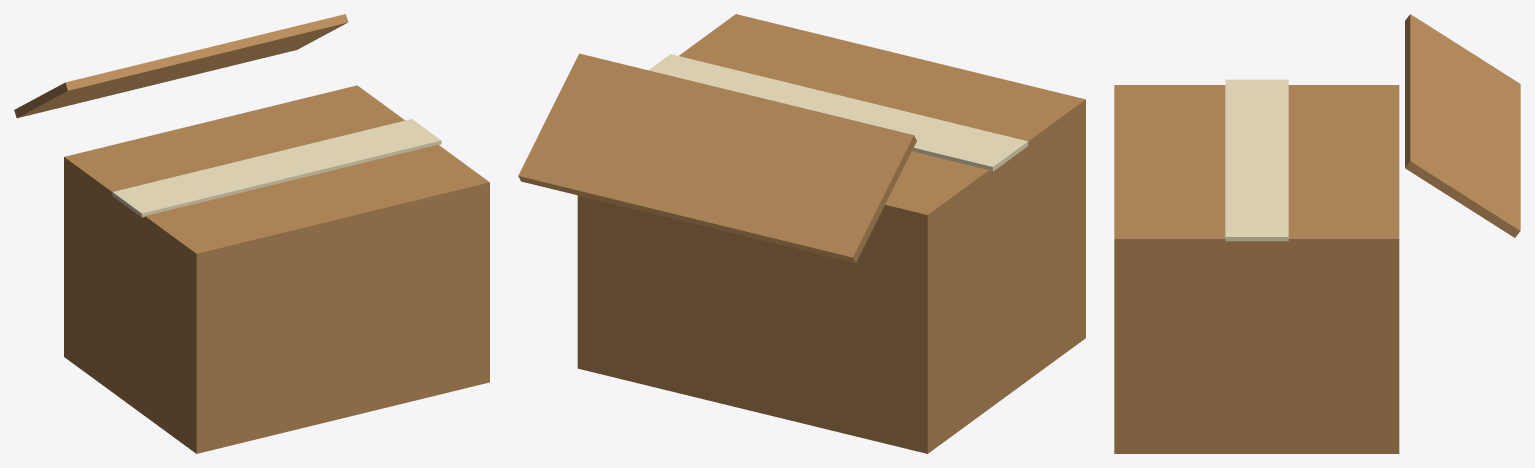
File: Trash_CardboardBox.fbx
3 renders of one model, left to right at view 1: azimuth 30°, elevation 25°; view 2: azimuth 150°, elevation 25°; view 3: azimuth 270°, elevation 25°, orthographic. The views are drawn at different scales.
Parts seen in each view (by area): view 1: Trash_CardboardBox; view 2: Trash_CardboardBox; view 3: Trash_CardboardBox.
Boxes of the visible parts, x1=… form: Trash_CardboardBox: x1=14, y1=14, x2=489, y2=453; Trash_CardboardBox: x1=518, y1=14, x2=1085, y2=453; Trash_CardboardBox: x1=1114, y1=14, x2=1520, y2=453.
Bounding box in the file's own units: 0.47 × 0.4037 × 0.5131.
